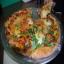pizza: (4, 7, 60, 57)
